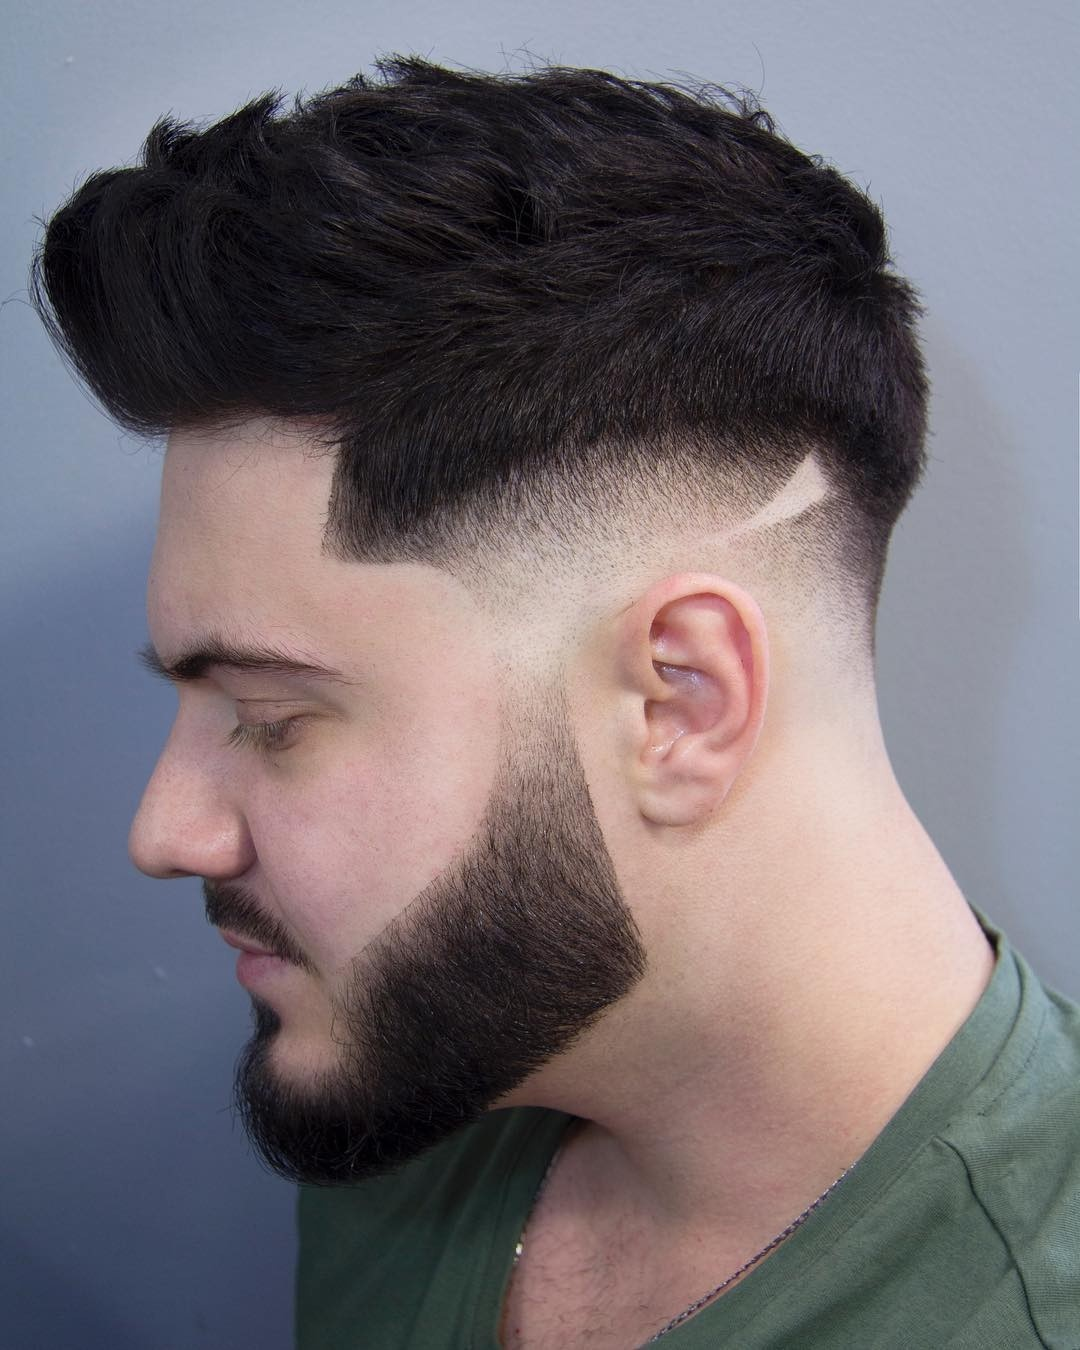face_no_mask: (117, 359, 790, 1211)
